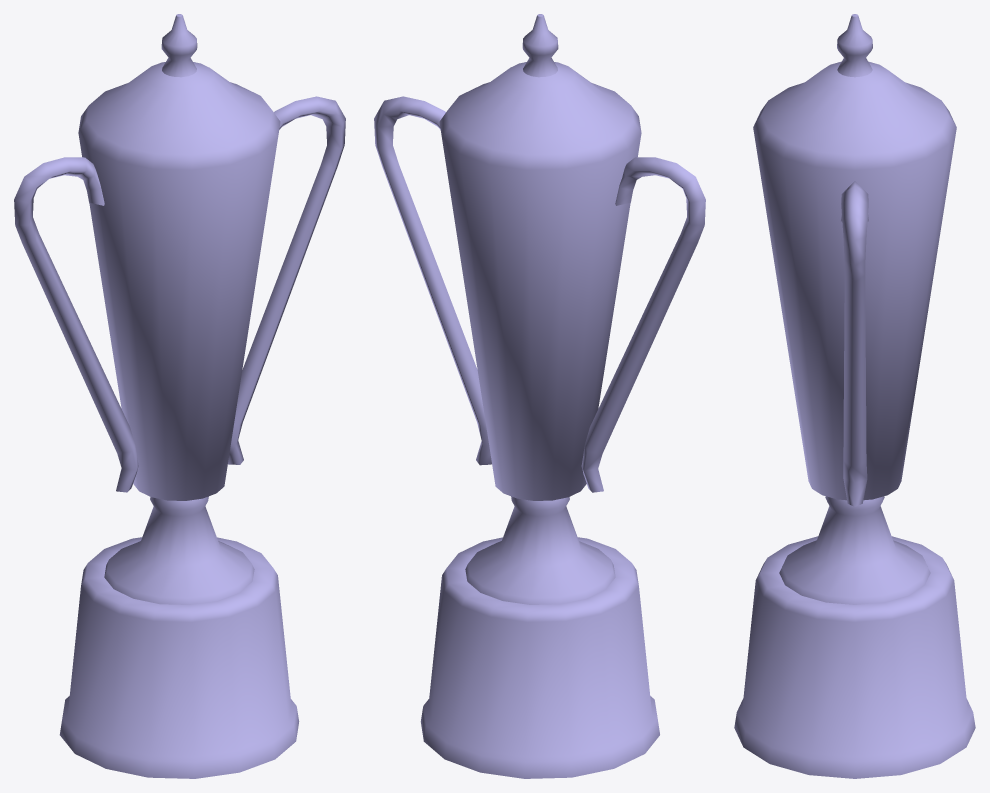
File: Cup_02.fbx
The picture shows the model from 3 angles, left to right: view 1: azimuth 30°, elevation 25°; view 2: azimuth 150°, elevation 25°; view 3: azimuth 270°, elevation 25°; orthographic projection.
Visible parts, largest first — view 1: Cup_02; view 2: Cup_02; view 3: Cup_02.
Boxes of the visible parts, <box> form: Cup_02: <box>14,14,345,778</box>; Cup_02: <box>374,14,705,778</box>; Cup_02: <box>734,14,975,778</box>.
Size of the model in its own units: 25.48 by 52.34 by 16.06.
